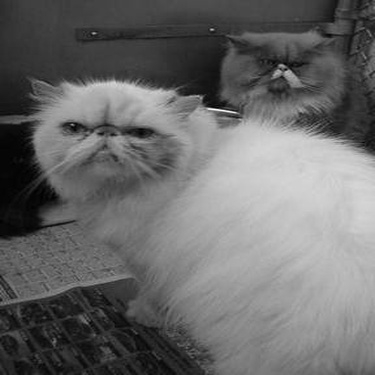cat: (14, 75, 369, 368), (178, 10, 369, 137)
